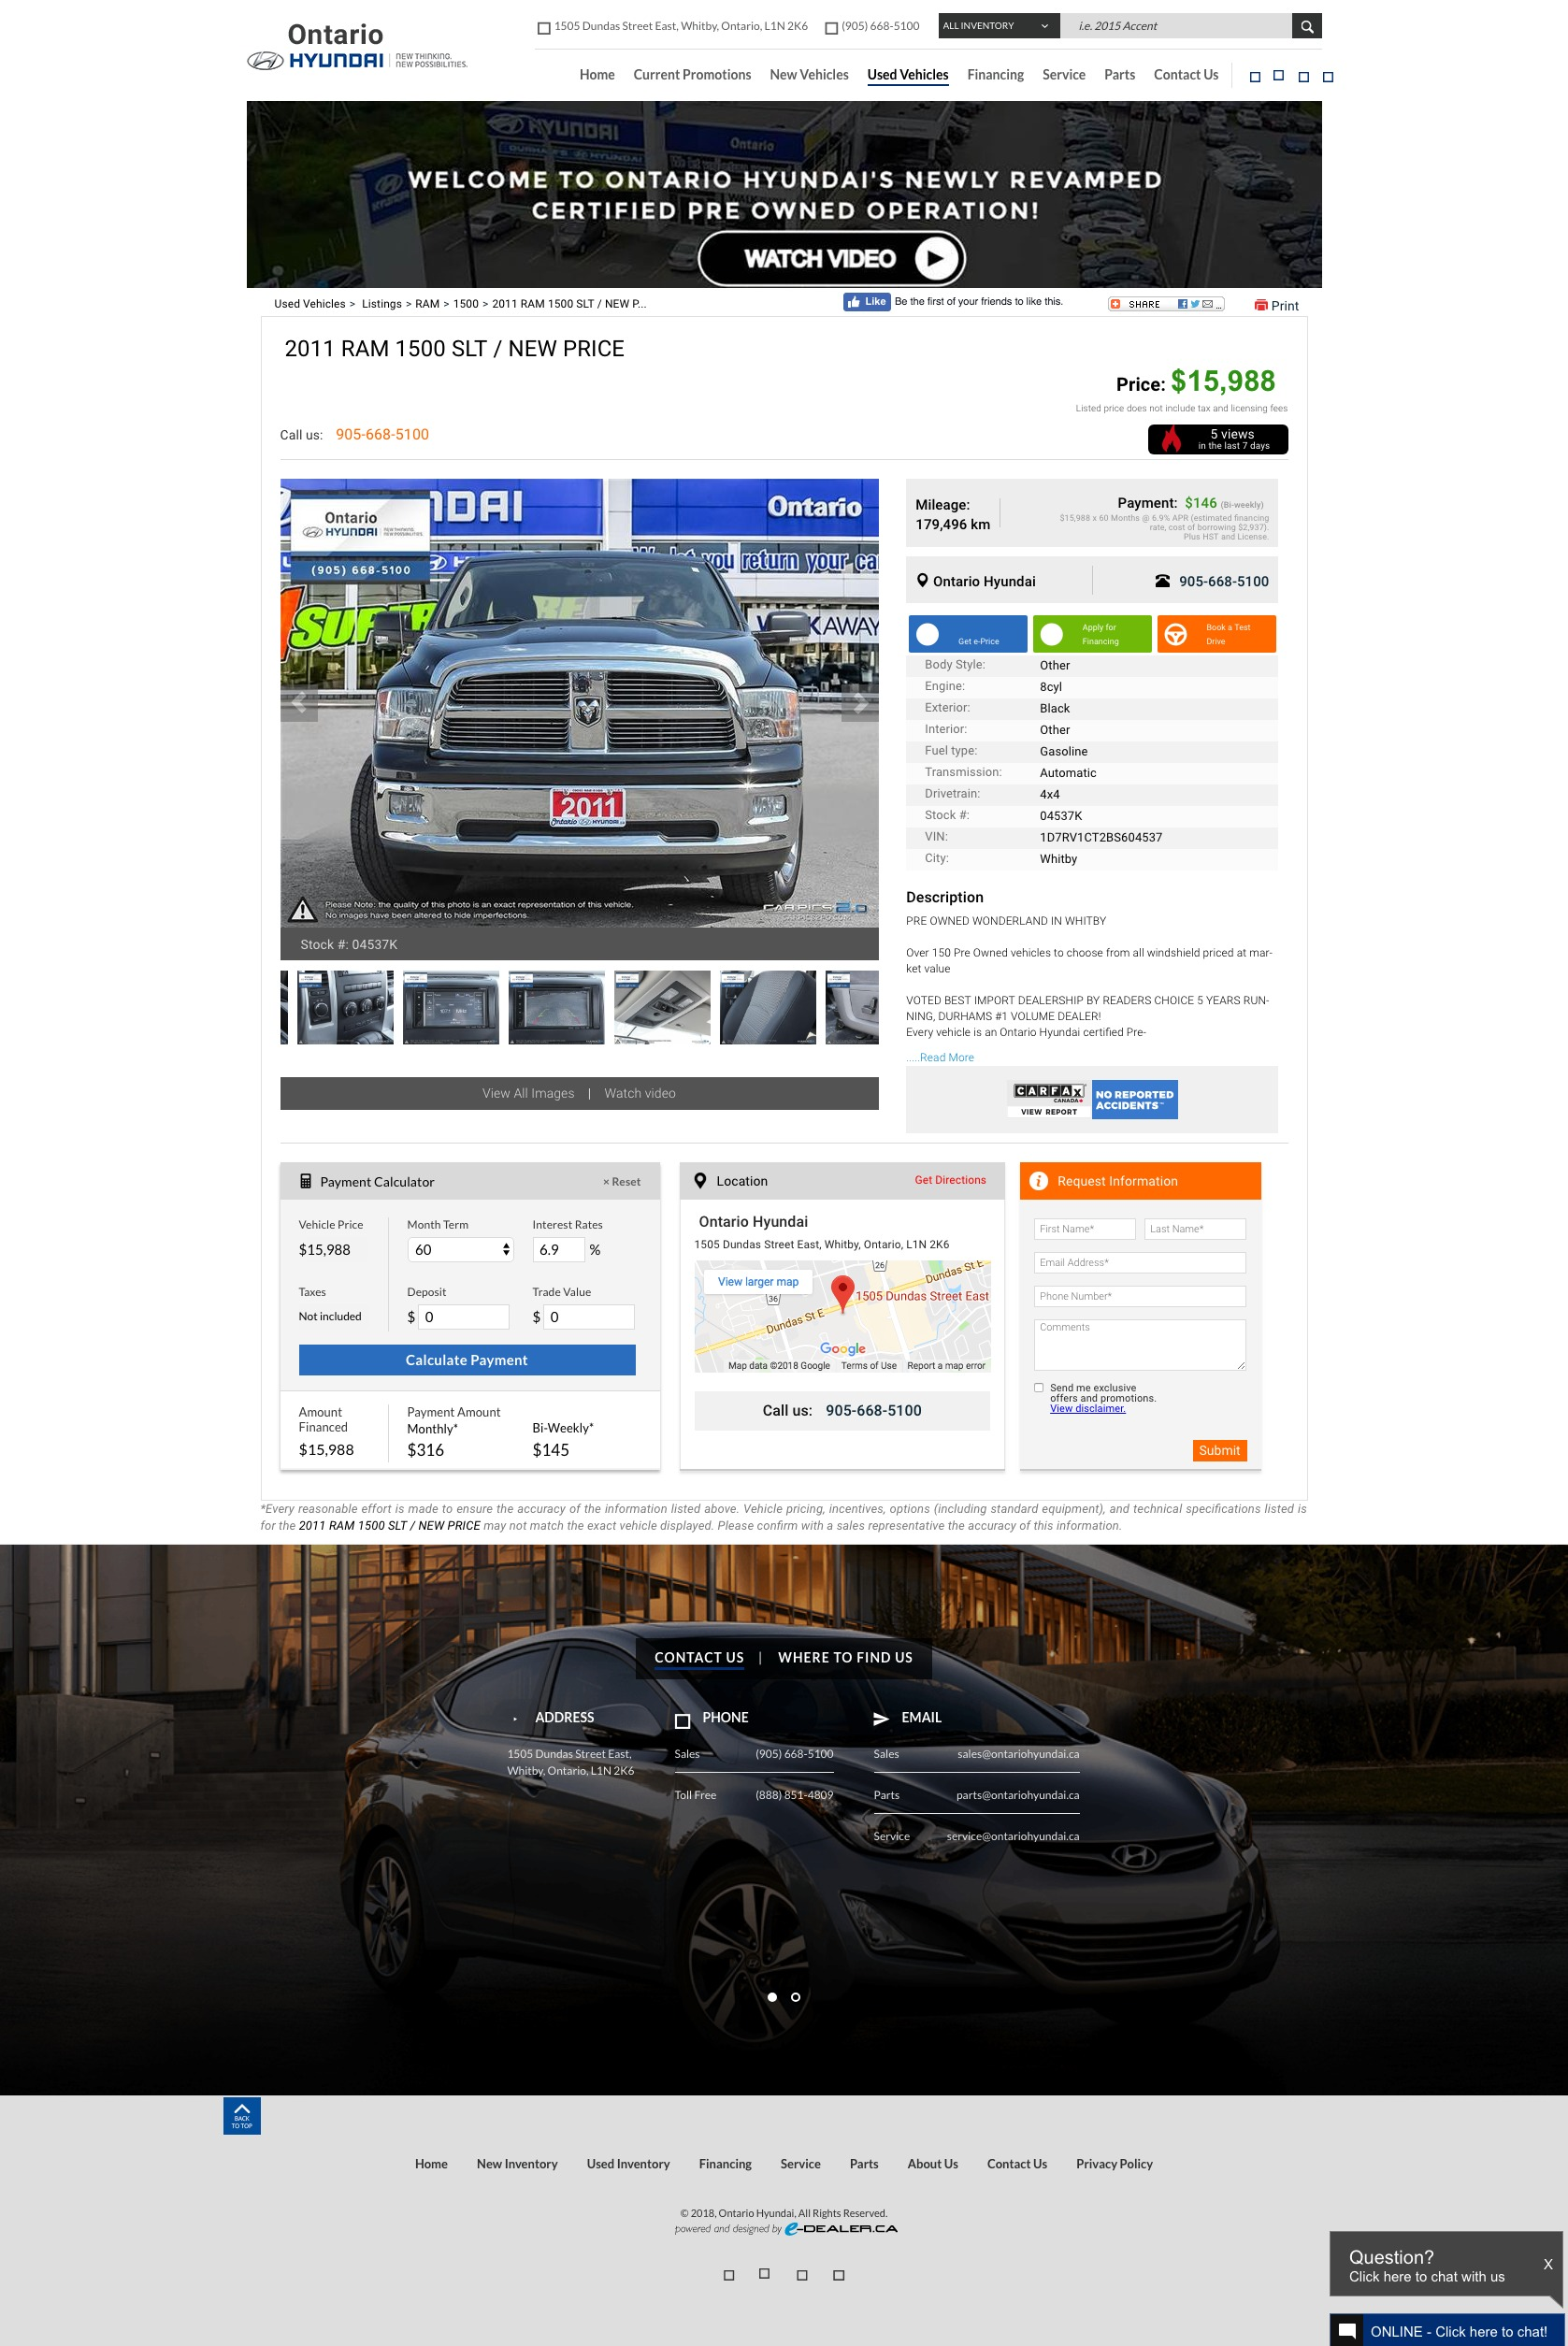car: (852, 693, 870, 716)
